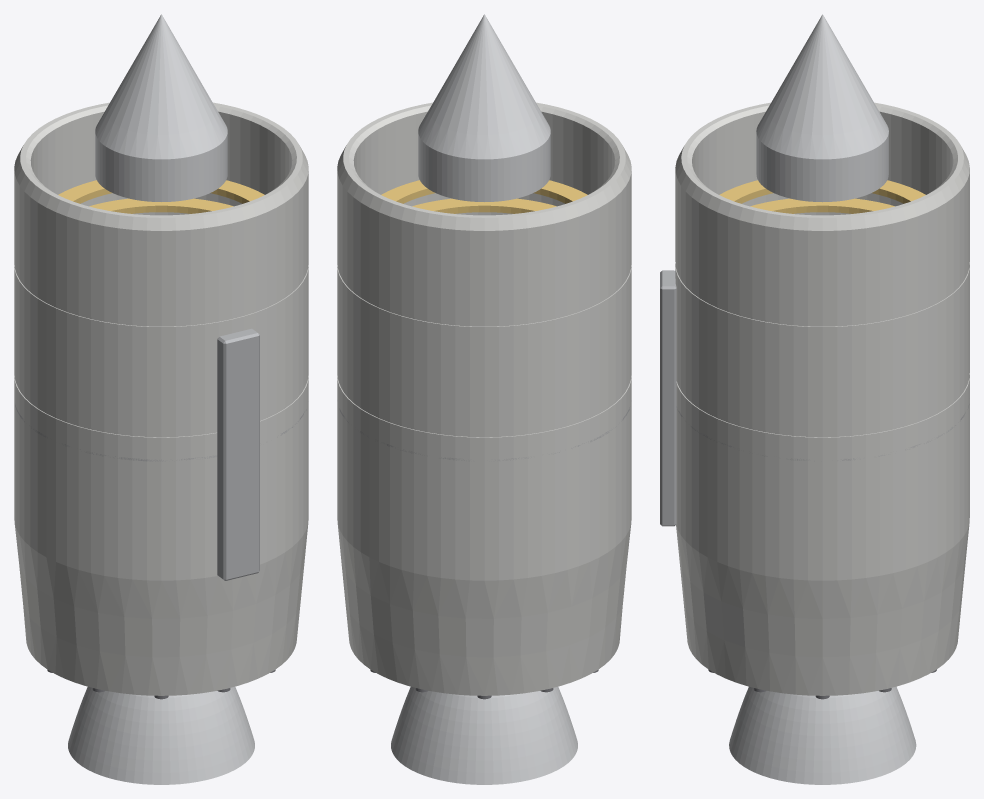
Rendered from ax_aero_30_jepc_precooled_rocket.glb.
3 views of the same model, side by side, from view 1: azimuth 30°, elevation 25°; view 2: azimuth 150°, elevation 25°; view 3: azimuth 270°, elevation 25° (orthographic).
Visible parts, largest first — view 1: nacelle, inlet_spike, rocket_bell, pylon_pad, precooler; view 2: nacelle, inlet_spike, rocket_bell, precooler; view 3: nacelle, inlet_spike, rocket_bell, pylon_pad, precooler.
Boxes of the visible parts, box(x1,y1,x2,y2) form: nacelle: box(14, 102, 308, 695); inlet_spike: box(95, 14, 227, 201); rocket_bell: box(68, 686, 254, 784); pylon_pad: box(217, 328, 259, 580); precooler: box(58, 180, 264, 213); nacelle: box(337, 102, 631, 695); inlet_spike: box(418, 14, 550, 201); rocket_bell: box(391, 686, 577, 784); precooler: box(381, 180, 587, 213); nacelle: box(675, 102, 969, 695); inlet_spike: box(756, 14, 888, 202); rocket_bell: box(729, 686, 916, 784); pylon_pad: box(660, 270, 676, 526); precooler: box(719, 180, 925, 213).
Size of the model in its own units: 2.5 by 6.85 by 2.63.
